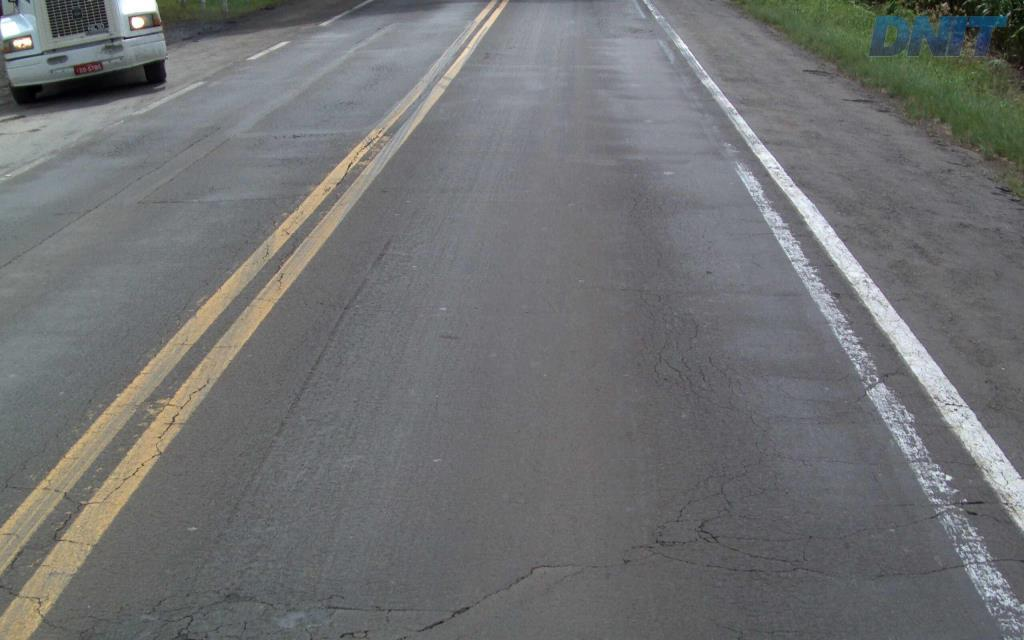crack: (705, 543, 838, 587), (655, 506, 759, 547), (729, 590, 773, 637)
